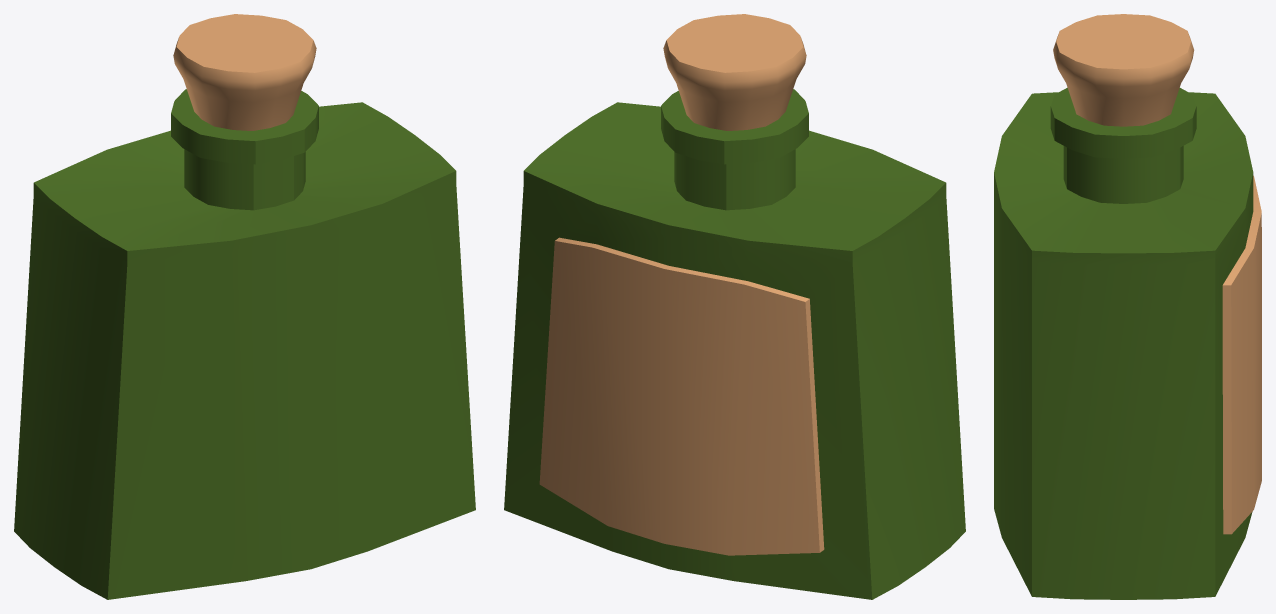
The model's file is GAMEJAMPUFFER - Bottle.fbx.
The picture shows the model from 3 angles, left to right: view 1: azimuth 30°, elevation 25°; view 2: azimuth 150°, elevation 25°; view 3: azimuth 270°, elevation 25°; orthographic projection. The views are drawn at different scales.
Parts seen in each view (by area): view 1: Bottle; view 2: Bottle; view 3: Bottle.
Boxes of the visible parts, left/top/right/bottom form: Bottle: left=14, top=14, right=475, bottom=599; Bottle: left=504, top=14, right=965, bottom=599; Bottle: left=994, top=14, right=1261, bottom=599.
Size of the model in its own units: 59.81 by 71.58 by 37.2.
